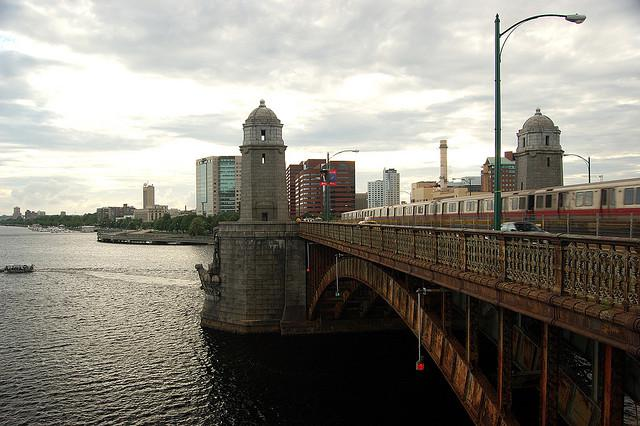Train: (341, 180, 640, 239)
